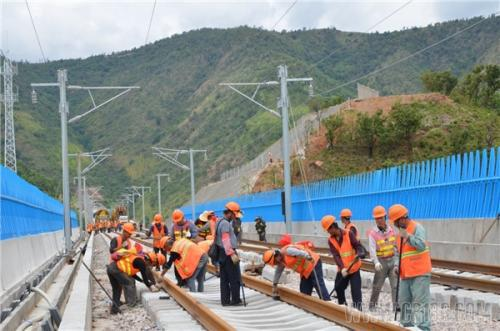helmet: (387, 202, 412, 228), (369, 204, 390, 230), (318, 214, 341, 237), (219, 202, 242, 220), (260, 249, 281, 268), (157, 235, 177, 252), (119, 221, 137, 239), (170, 207, 185, 227), (339, 207, 352, 224), (142, 252, 157, 266), (150, 212, 162, 227)
